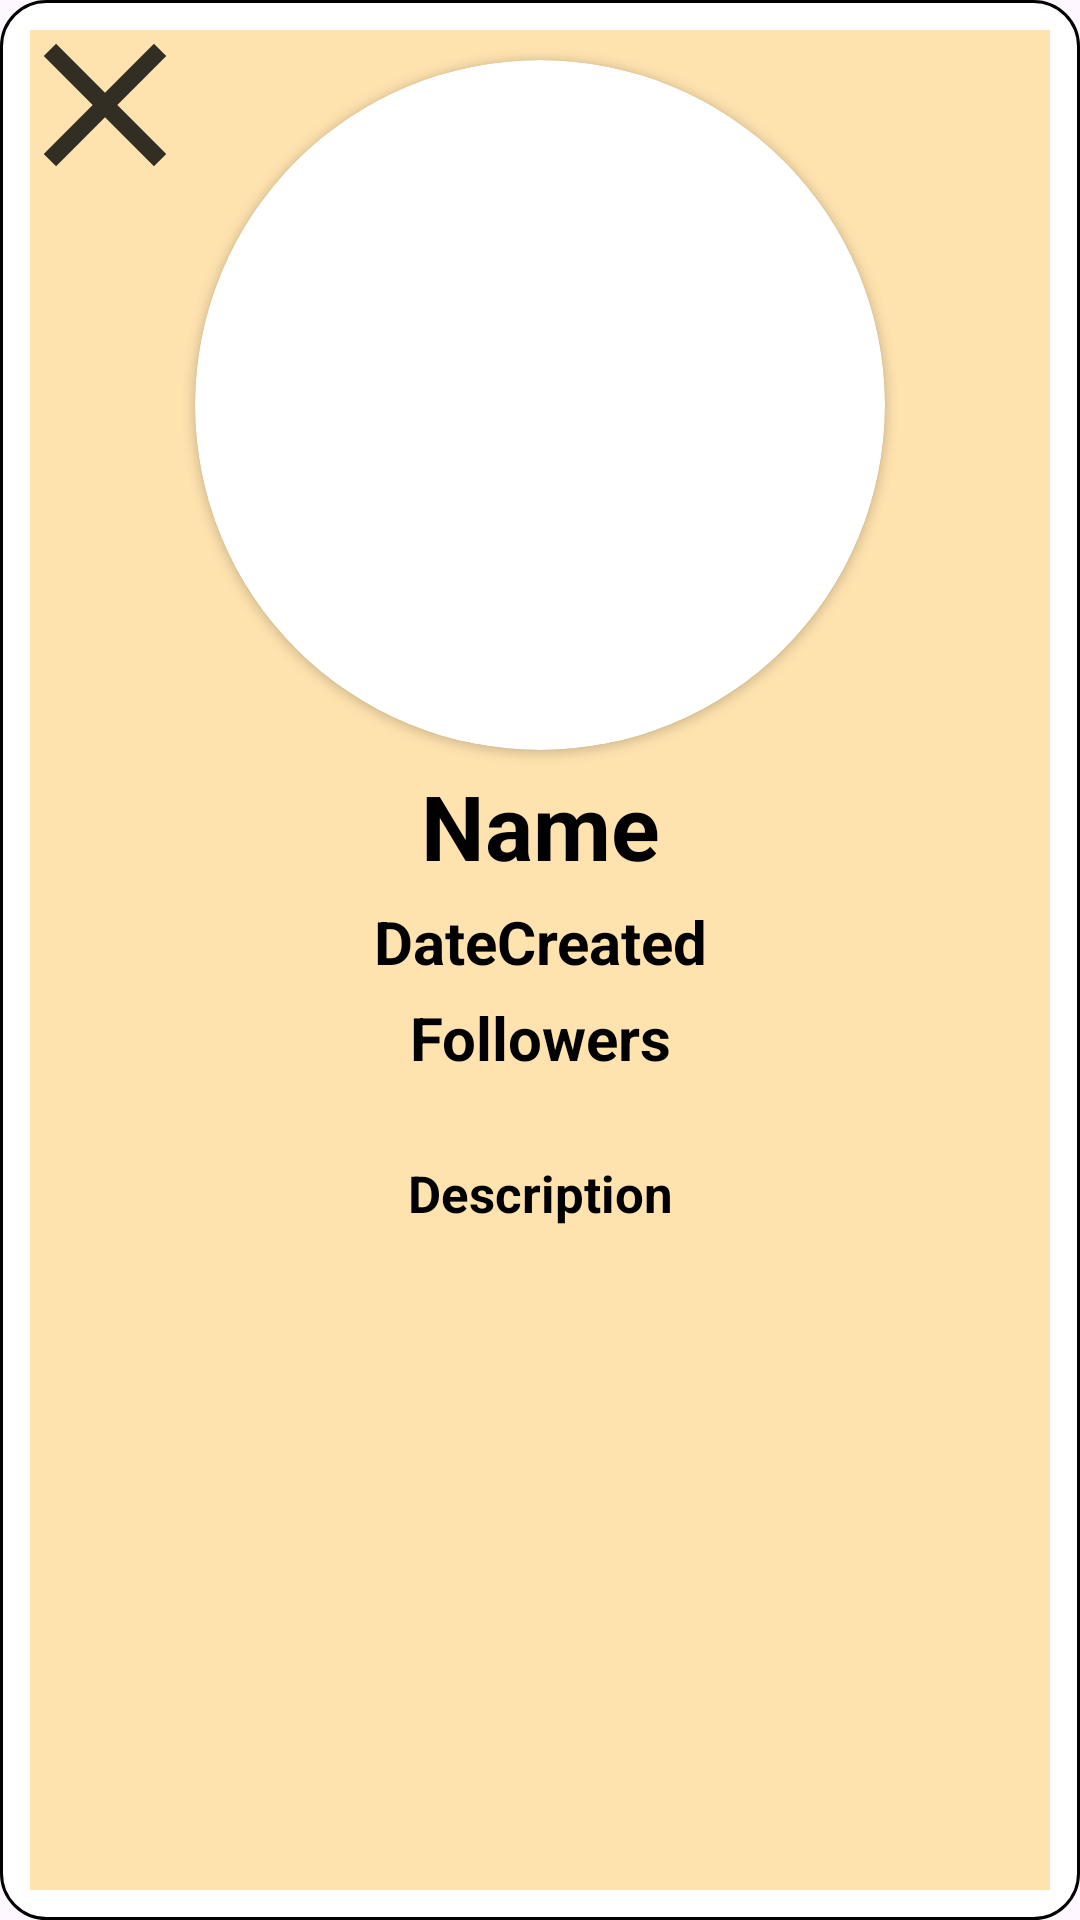

Where icons sit on this 1080px×1920px app screen, as [x1, y1, x2, y2]:
close: [0, 0, 210, 210]
